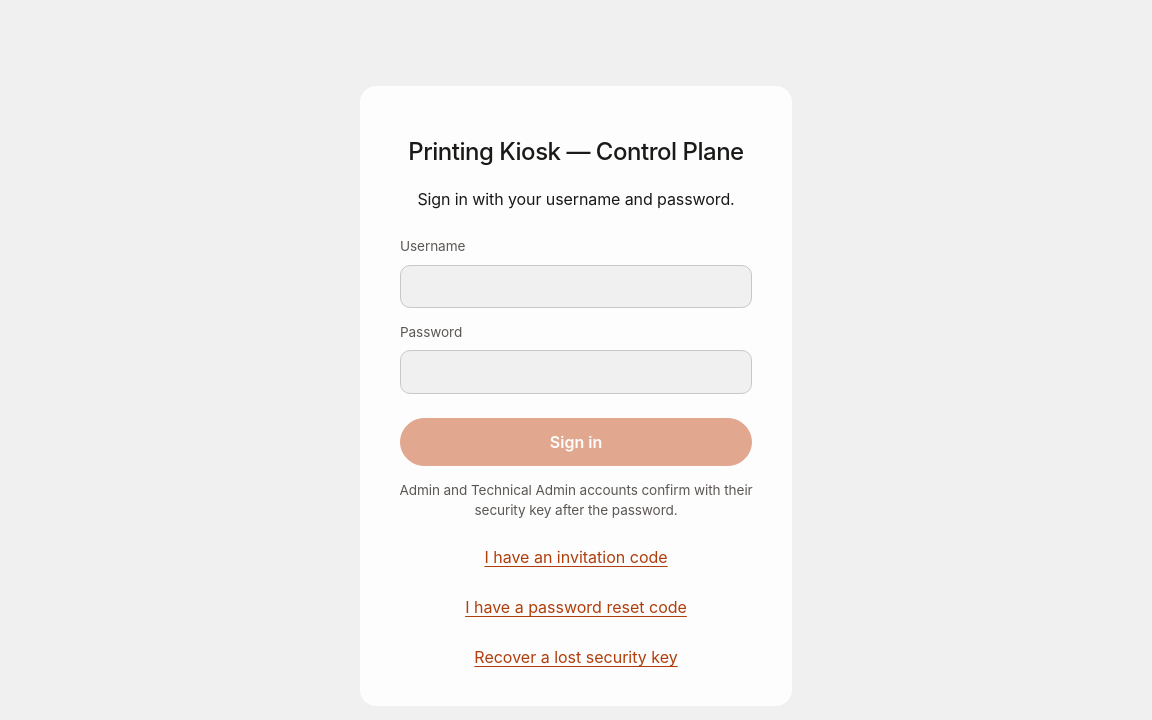
Test: admin Phase 1 workflows › coalesces same-tick duplicate sign-in requests
Type "ada" into the field labelled "Username".
click(576, 286); type("ada")  # box [400,264,752,308]
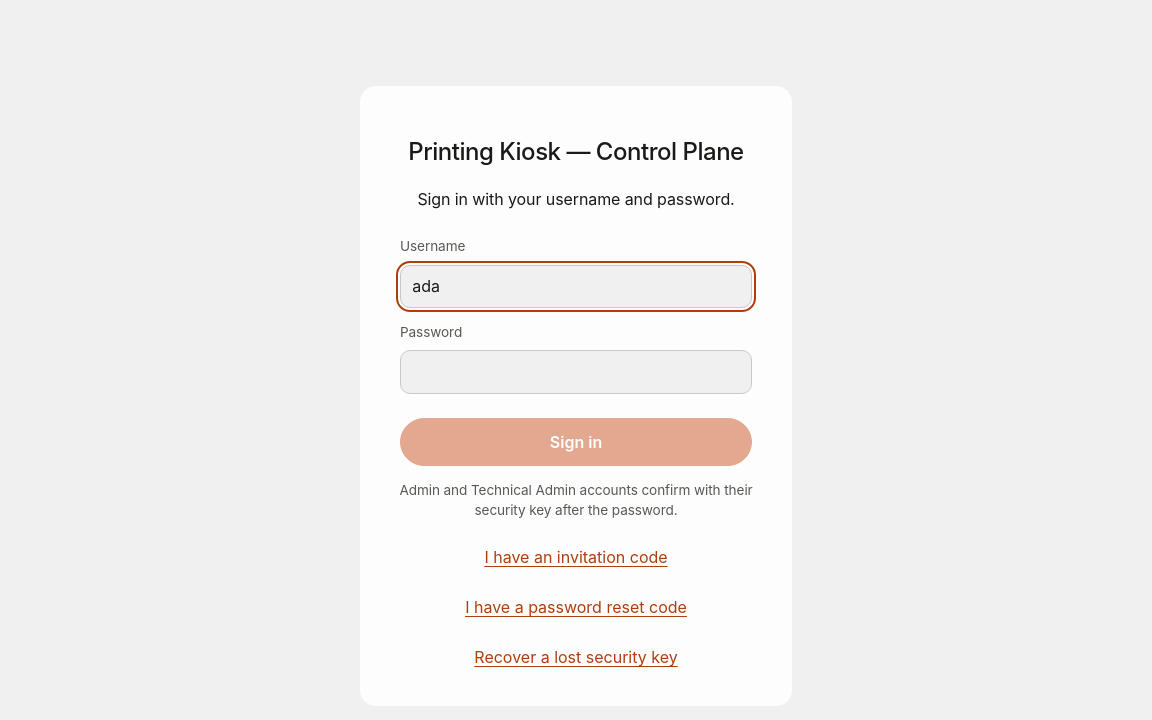
Type "a-long-enough-password" into the password field labelled "Password".
click(576, 372); type("a-long-enough-password")  # box [400,350,752,394]
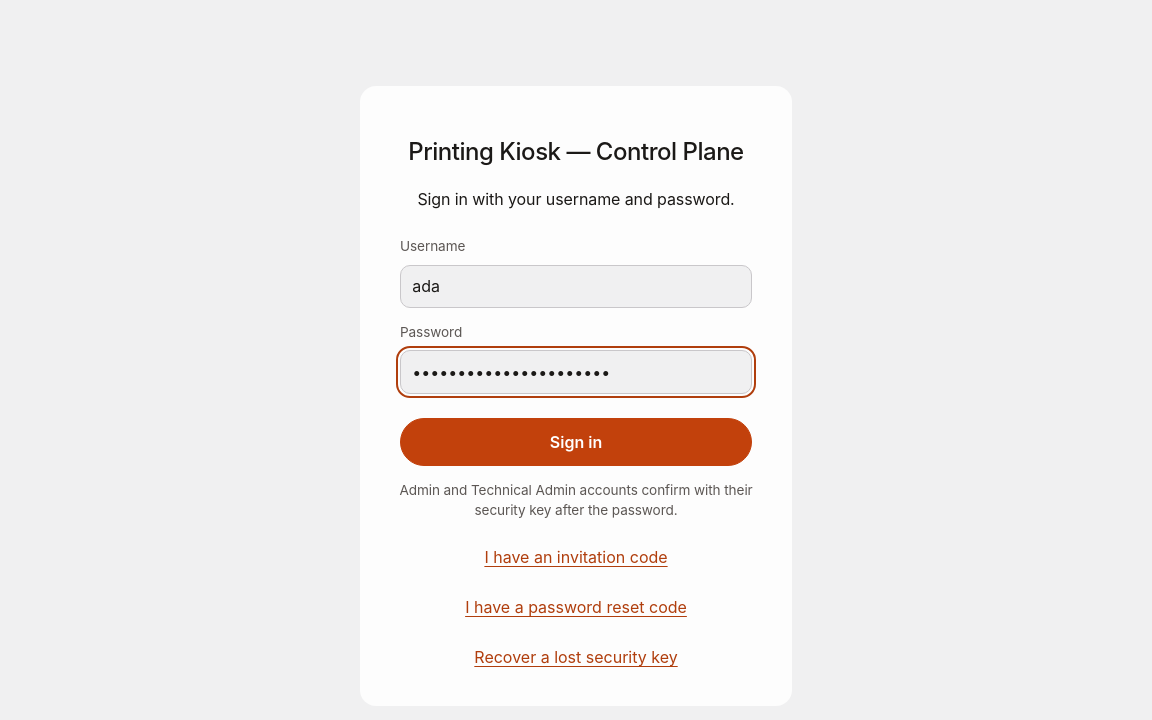
Click the button "Sign in".
click(576, 442)  # box [400,418,752,466]
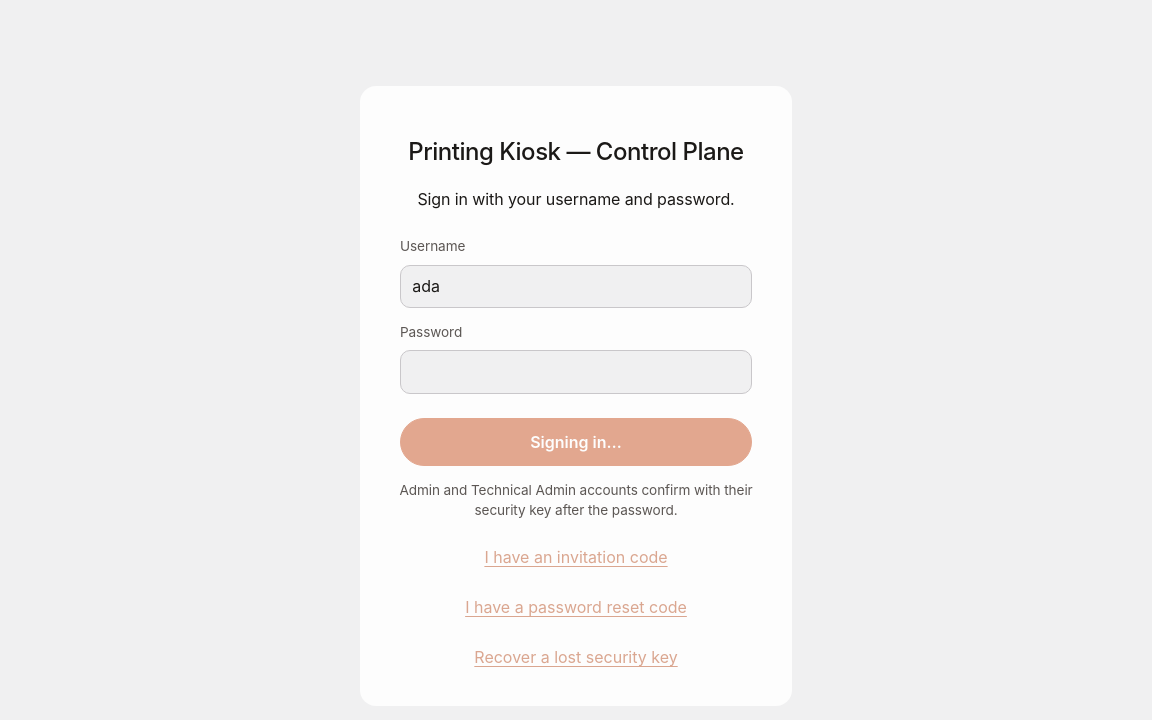
Click the button named "Sign in".
click(576, 442)  # box [400,418,752,466]
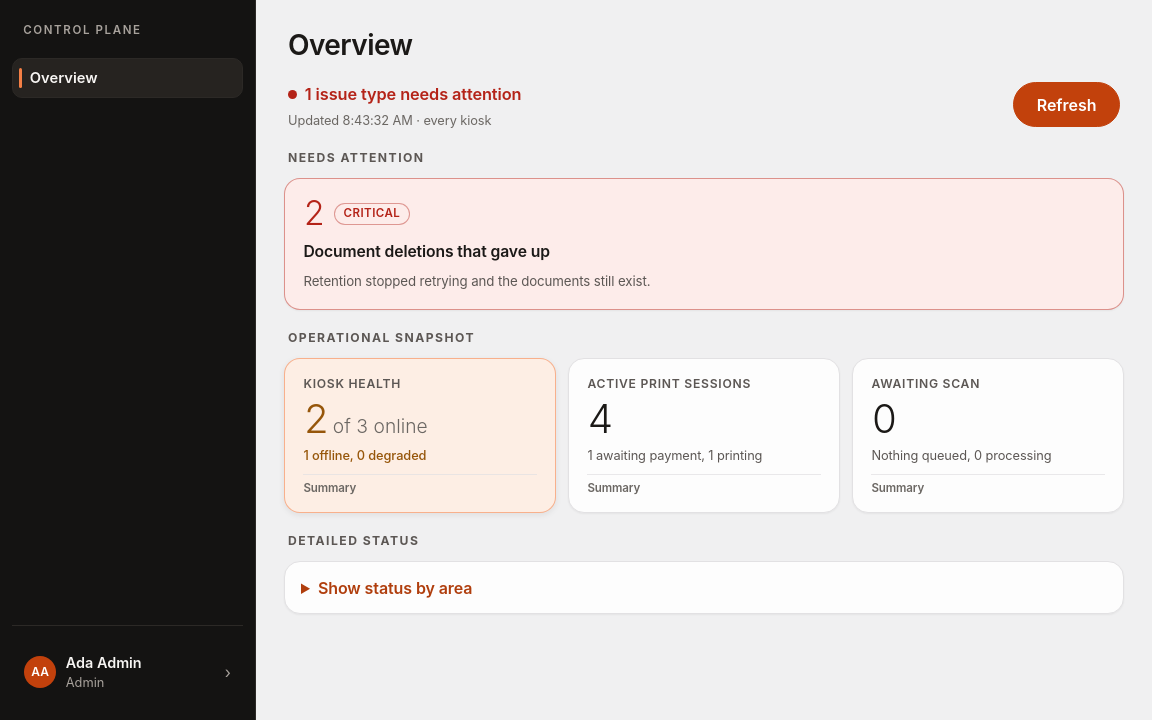
Result: the heading "Overview" is shown at [288,28,412,62]
